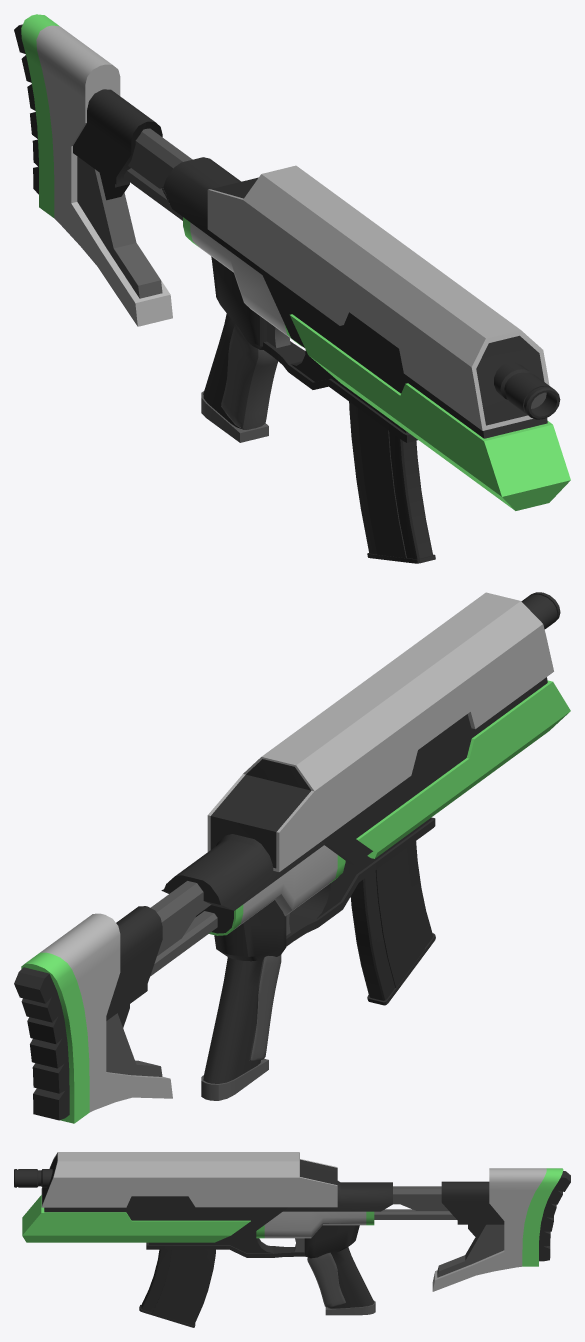
File: bubble_blaster.glb
3 views of the same model, one above another, from view 1: azimuth 30°, elevation 25°; view 2: azimuth 150°, elevation 25°; view 3: azimuth 270°, elevation 25° (orthographic). The views are drawn at different scales.
Visible parts, largest first — view 1: Cube.167, Cube.000; view 2: Cube.167, Cube.000; view 3: Cube.167, Cube.000.
Part boxes in pixels (box(x1,y1,x2,y2)): Cube.167: box(14, 14, 570, 510); Cube.000: box(349, 401, 435, 563); Cube.167: box(14, 592, 570, 1123); Cube.000: box(350, 841, 435, 1005); Cube.167: box(14, 1152, 570, 1315); Cube.000: box(139, 1249, 215, 1327).
Bounding box in the file's own units: 0.0495 × 0.2077 × 0.62.
